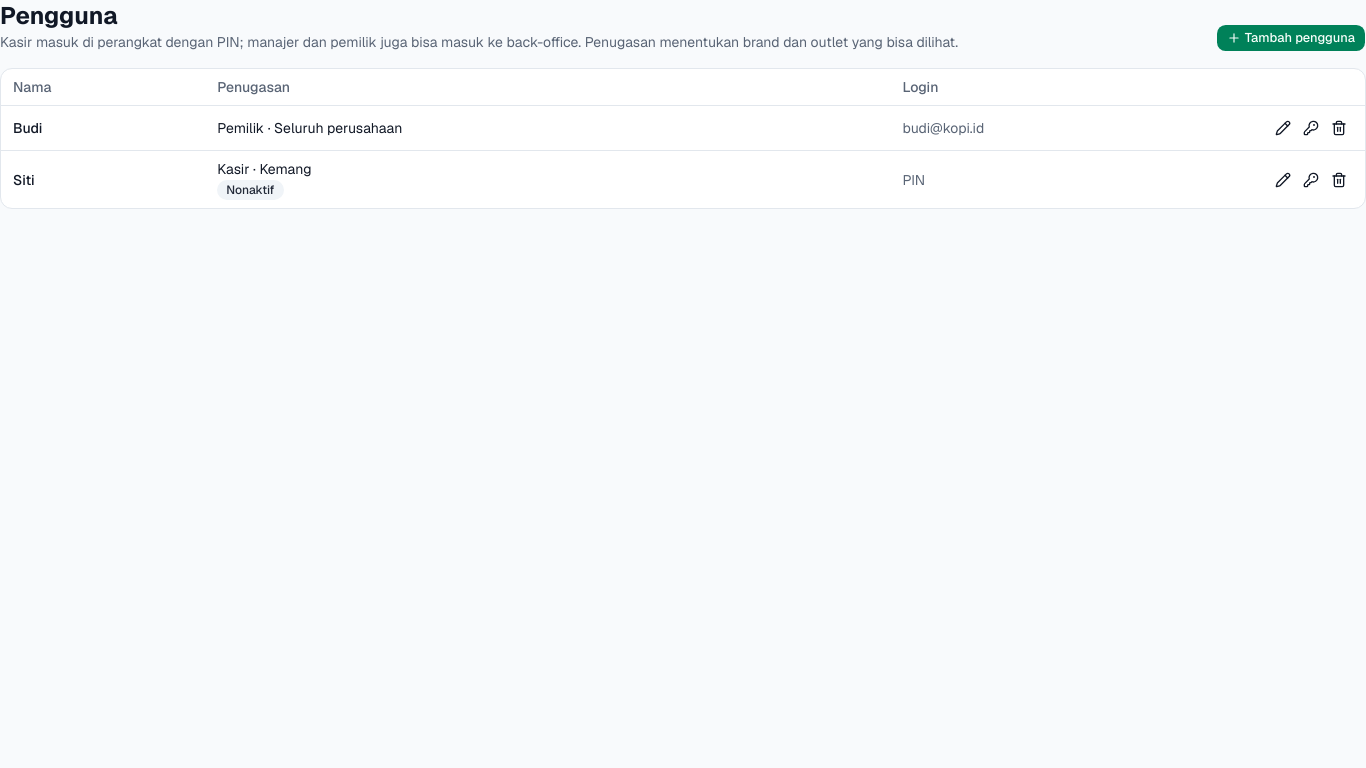
Test: UsersScreen › explains why the last owner cannot be deleted
Click the button named "Hapus Budi" at (1339, 128), box [1325,114,1353,142]
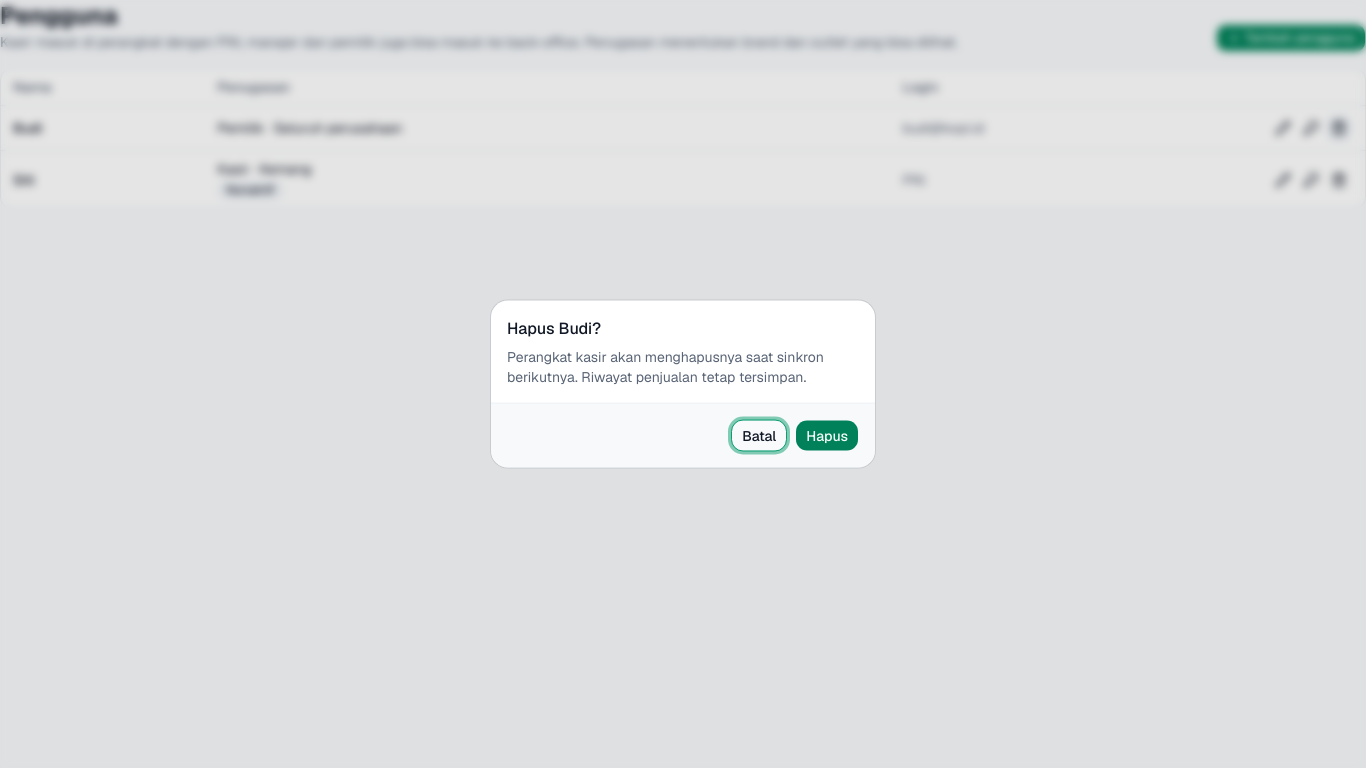
Click the button "Hapus" at (827, 436), box [795,420,859,452]
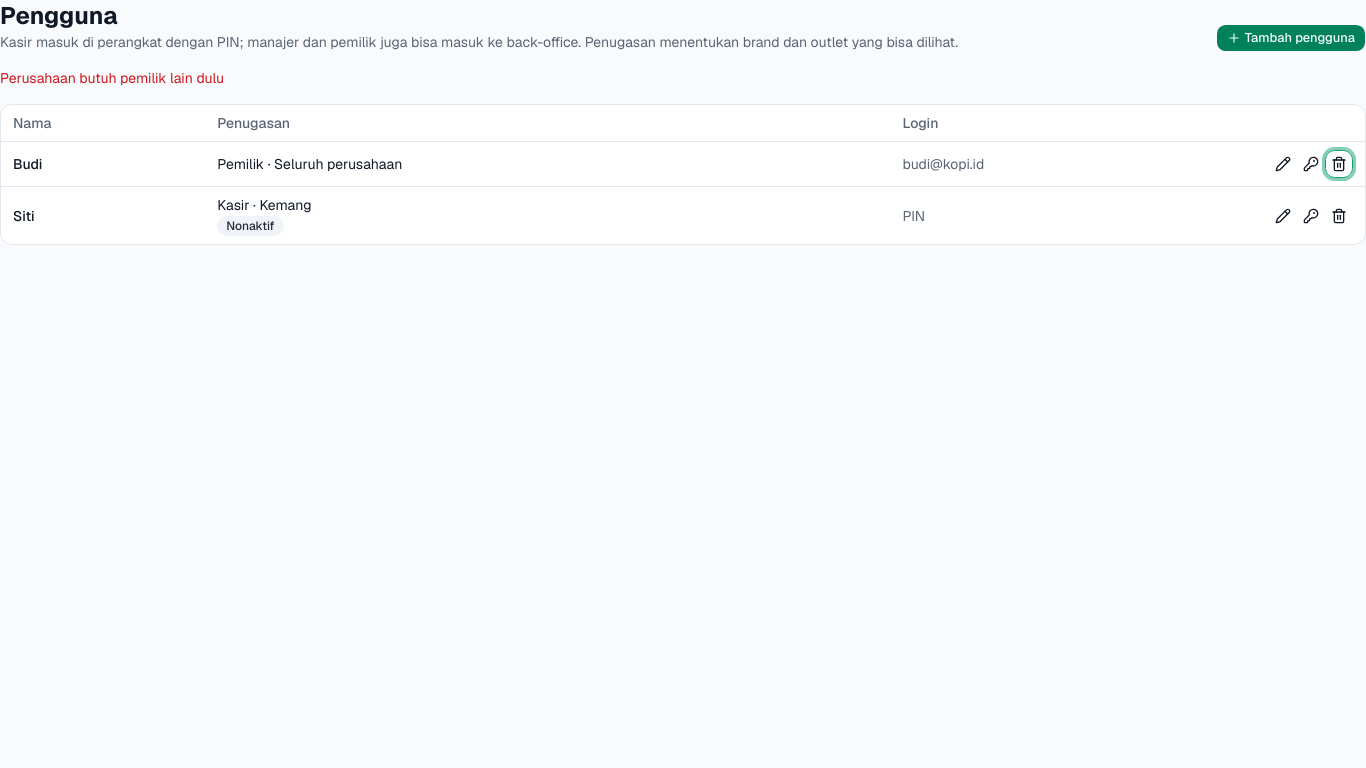
Expected: the text "Perusahaan butuh pemilik lain dulu" is shown, [0,69,224,87]
